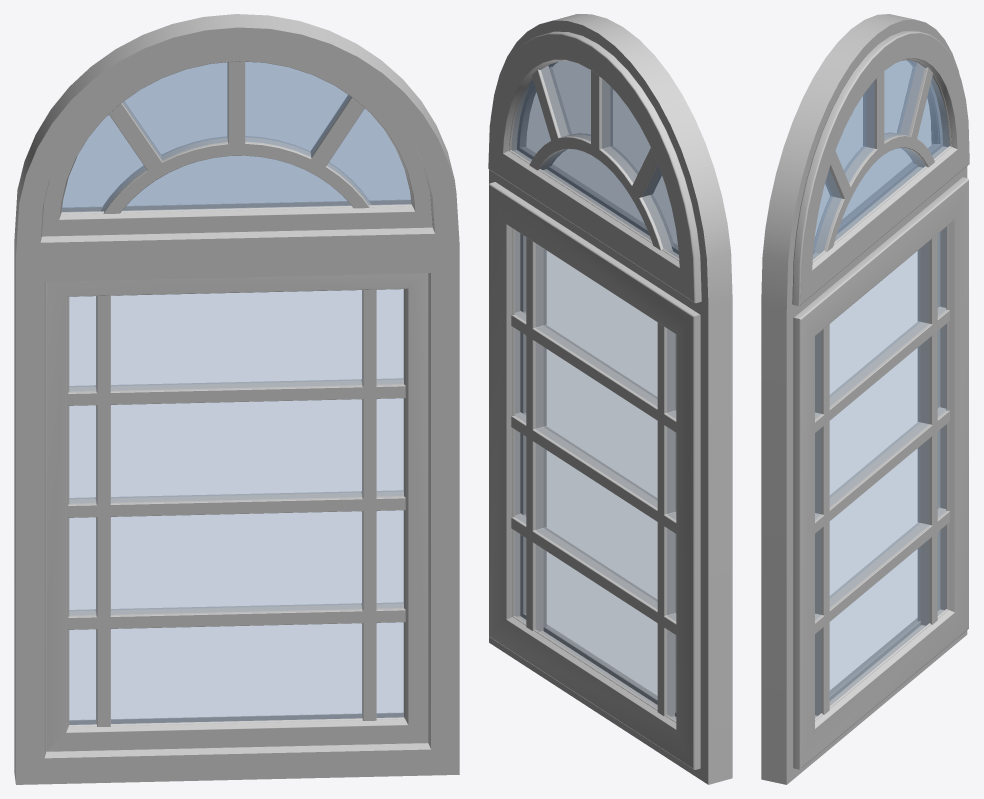
3 views of the same model, side by side, from view 1: azimuth 30°, elevation 25°; view 2: azimuth 150°, elevation 25°; view 3: azimuth 270°, elevation 25° (orthographic). The views are drawn at different scales.
Visible parts, largest first — view 1: obj_03, obj_01, obj_02, obj_05, obj_07, obj_06, obj_08; view 2: obj_03, obj_02, obj_01, obj_07, obj_06, obj_05, obj_08; view 3: obj_03, obj_02, obj_01, obj_07, obj_06, obj_05, obj_08.
Part boxes in pixels (x1,y1,x2,y2): obj_03: (69,289,403,724); obj_01: (14,14,459,784); obj_02: (46,273,428,751); obj_05: (62,62,411,211); obj_07: (68,289,405,726); obj_06: (42,49,432,236); obj_08: (101,61,371,213); obj_03: (515,230,675,719); obj_02: (489,182,700,769); obj_01: (489,14,732,784); obj_07: (511,237,676,716); obj_06: (488,31,701,303); obj_05: (511,61,678,258); obj_08: (529,66,674,251); obj_03: (815,228,945,717); obj_02: (793,177,968,769); obj_01: (761,14,967,784); obj_07: (815,234,949,715); obj_06: (792,30,969,305); obj_05: (813,60,948,258); obj_08: (814,63,934,253).
Size of the model in its own units: 35.04 by 70.82 by 19.82.
